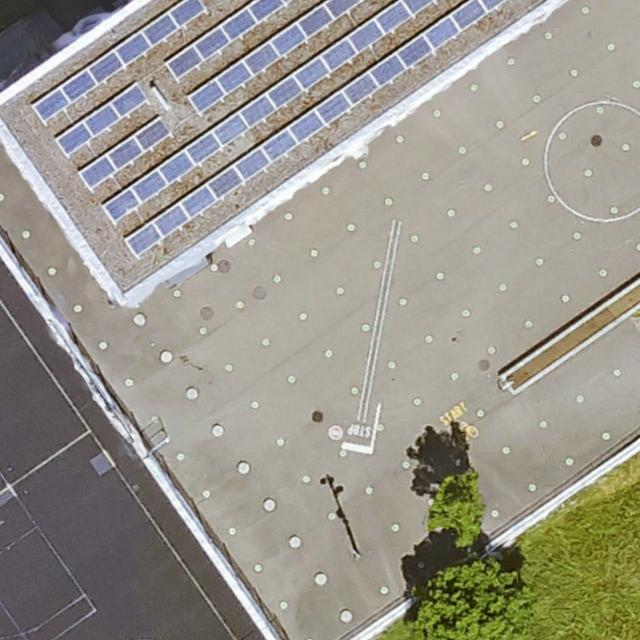tree: (411, 555, 535, 640), (427, 471, 485, 541)
